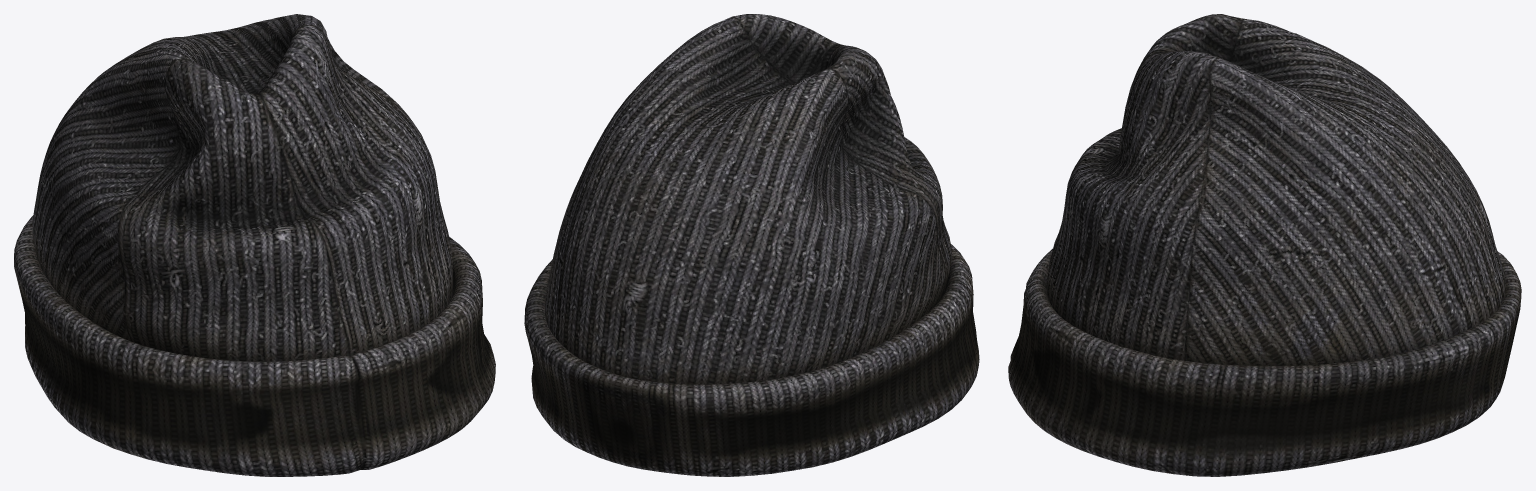
The model's file is beanie.glb.
3 views of the same model, side by side, from view 1: azimuth 30°, elevation 25°; view 2: azimuth 150°, elevation 25°; view 3: azimuth 270°, elevation 25° (orthographic). The views are drawn at different scales.
Visible parts, largest first — view 1: Object_2; view 2: Object_2; view 3: Object_2.
Boxes of the visible parts, left/top/right/bottom form: Object_2: left=14, top=14, right=495, bottom=476; Object_2: left=524, top=14, right=979, bottom=476; Object_2: left=1008, top=14, right=1521, bottom=476.
Size of the model in its own units: 0.3594 by 0.3157 by 0.4204.
1 material, 1 textured.
